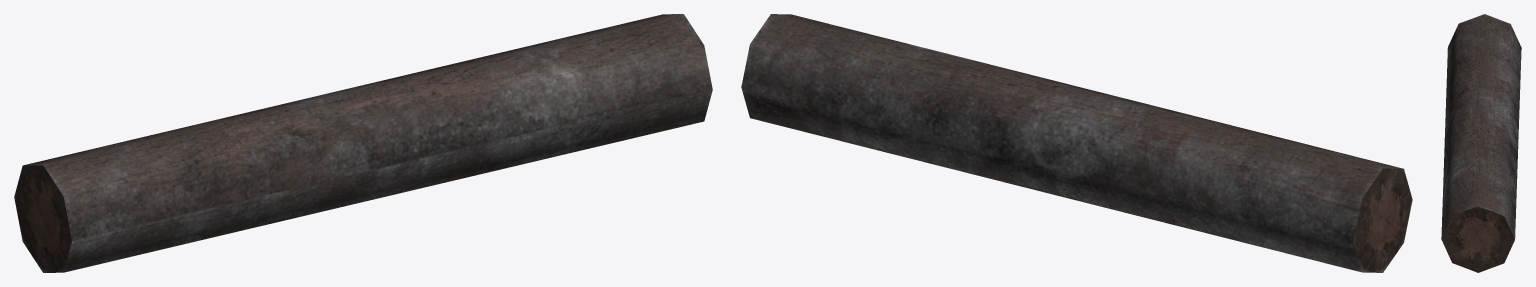
Rendered from piece.obj.
3 renders of one model, left to right at view 1: azimuth 30°, elevation 25°; view 2: azimuth 150°, elevation 25°; view 3: azimuth 270°, elevation 25°, orthographic. The views are drawn at different scales.
Visible parts, largest first — view 1: SW_B_lo; view 2: SW_B_lo; view 3: SW_B_lo.
Boxes of the visible parts, x1,y1,x2,y2 form: SW_B_lo: [14, 14, 712, 272]; SW_B_lo: [741, 14, 1412, 272]; SW_B_lo: [1441, 14, 1521, 272].
Size of the model in its own units: 1.3 by 0.21 by 0.2284.
1 material, 1 textured.
